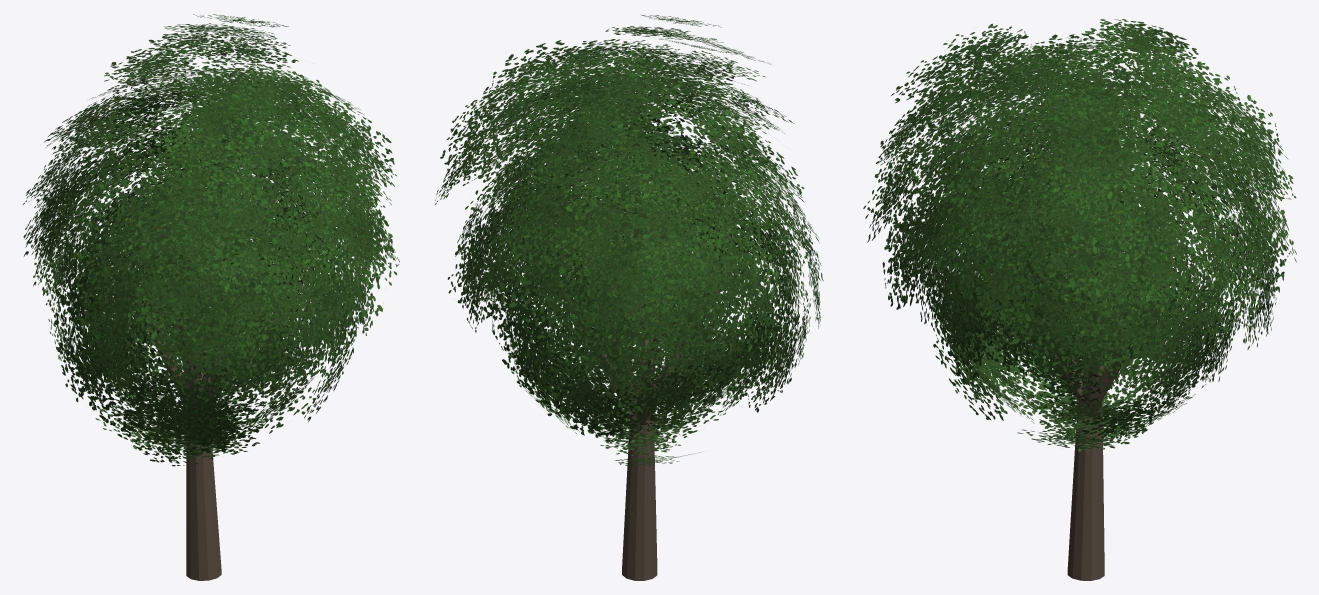
File: bully_tree_c.glb
3 views of the same model, side by side, from view 1: azimuth 30°, elevation 25°; view 2: azimuth 150°, elevation 25°; view 3: azimuth 270°, elevation 25° (orthographic). The views are drawn at different scales.
Parts seen in each view (by area): view 1: island_tree_02_c_leaves, island_tree_02_c_wood; view 2: island_tree_02_c_leaves, island_tree_02_c_wood; view 3: island_tree_02_c_leaves, island_tree_02_c_wood.
Part boxes in pixels (x1,y1,x2,y2): island_tree_02_c_leaves: (23, 14, 399, 466); island_tree_02_c_wood: (118, 186, 279, 580); island_tree_02_c_leaves: (435, 15, 823, 466); island_tree_02_c_wood: (556, 193, 729, 580); island_tree_02_c_leaves: (863, 19, 1296, 451); island_tree_02_c_wood: (997, 236, 1168, 580).
Size of the model in its own units: 7.52 by 11.67 by 8.52.
Materials: 2 (1 with a texture image).
